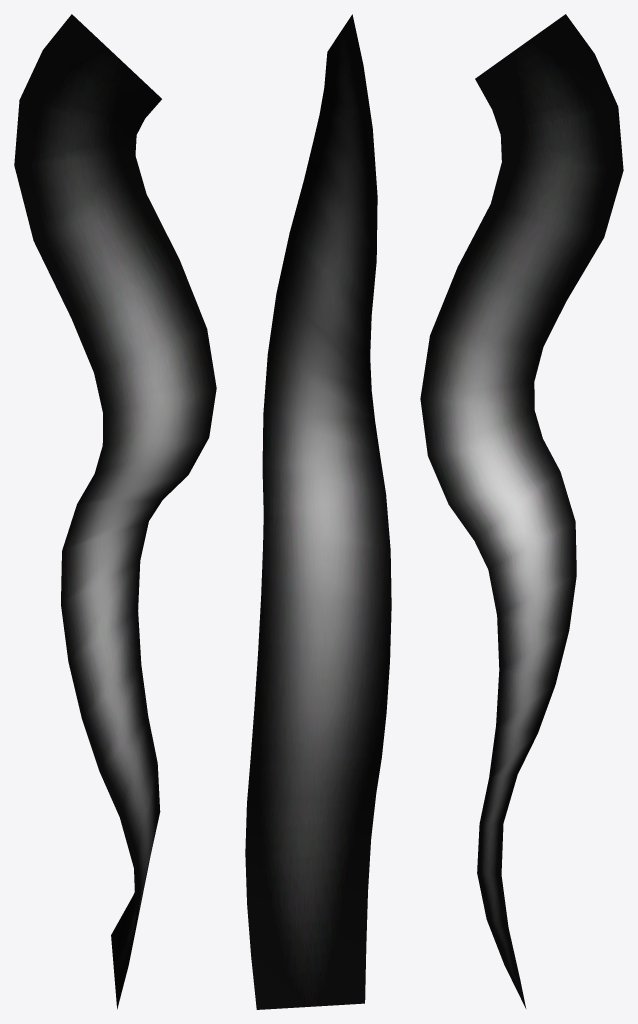
Rendered from vfx_kurp_0532.dae.
3 views of the same model, side by side, from view 1: azimuth 90°, elevation 25°; view 2: azimuth 210°, elevation 25°; view 3: azimuth 270°, elevation 25° (orthographic). The views are drawn at different scales.
Parts seen in each view (by area): view 1: vfx_kurp_0532; view 2: vfx_kurp_0532; view 3: vfx_kurp_0532.
Part boxes in pixels (left/top/right/bottom): vfx_kurp_0532: left=14, top=14, right=216, bottom=1009; vfx_kurp_0532: left=245, top=14, right=391, bottom=1009; vfx_kurp_0532: left=420, top=14, right=623, bottom=1008.
Bounding box in the file's own units: 1.35 × 1.95 × 10.41.
1 material, 1 textured.
